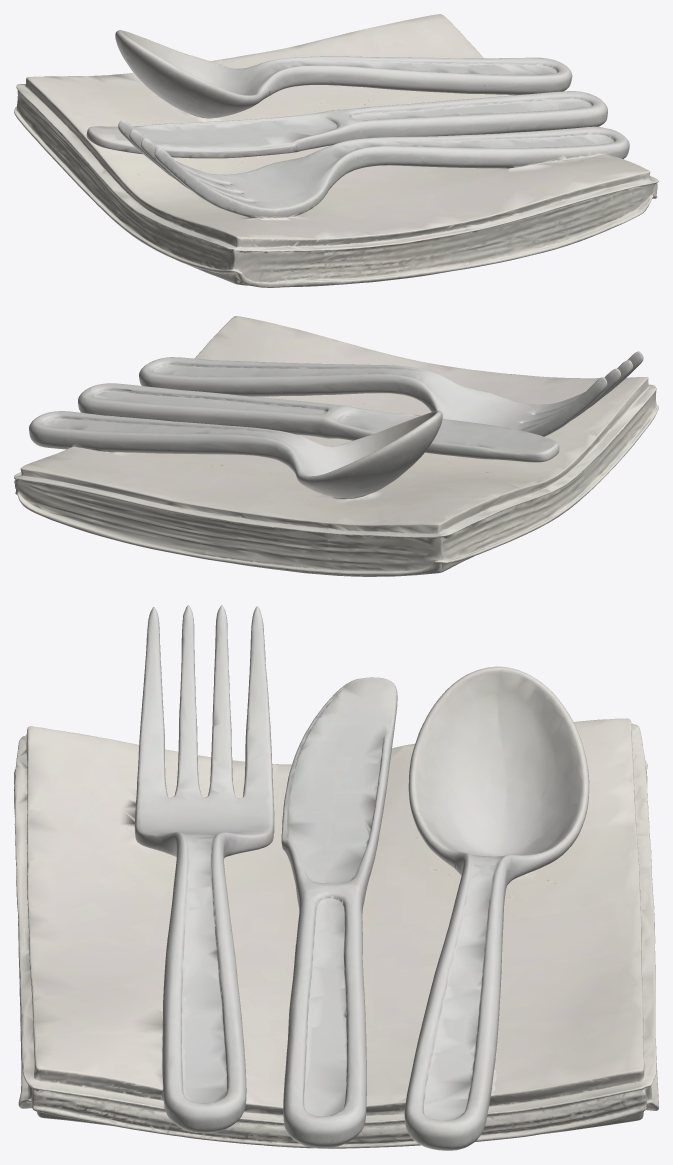
The model's file is platos.glb.
The picture shows the model from 3 angles, top to bottom: view 1: azimuth 30°, elevation 25°; view 2: azimuth 150°, elevation 25°; view 3: azimuth 270°, elevation 25°; orthographic projection. The views are drawn at different scales.
Visible parts, largest first — view 1: tripo_node_01e2834a-cf2e-4c35-9800-013941044481; view 2: tripo_node_01e2834a-cf2e-4c35-9800-013941044481; view 3: tripo_node_01e2834a-cf2e-4c35-9800-013941044481.
Boxes of the visible parts, bbox=[...] form: tripo_node_01e2834a-cf2e-4c35-9800-013941044481: bbox=[14, 14, 658, 287]; tripo_node_01e2834a-cf2e-4c35-9800-013941044481: bbox=[14, 316, 658, 576]; tripo_node_01e2834a-cf2e-4c35-9800-013941044481: bbox=[14, 605, 658, 1150].
Bounding box in the file's own units: 1 × 0.3107 × 0.7594.
1 material, 1 textured.
